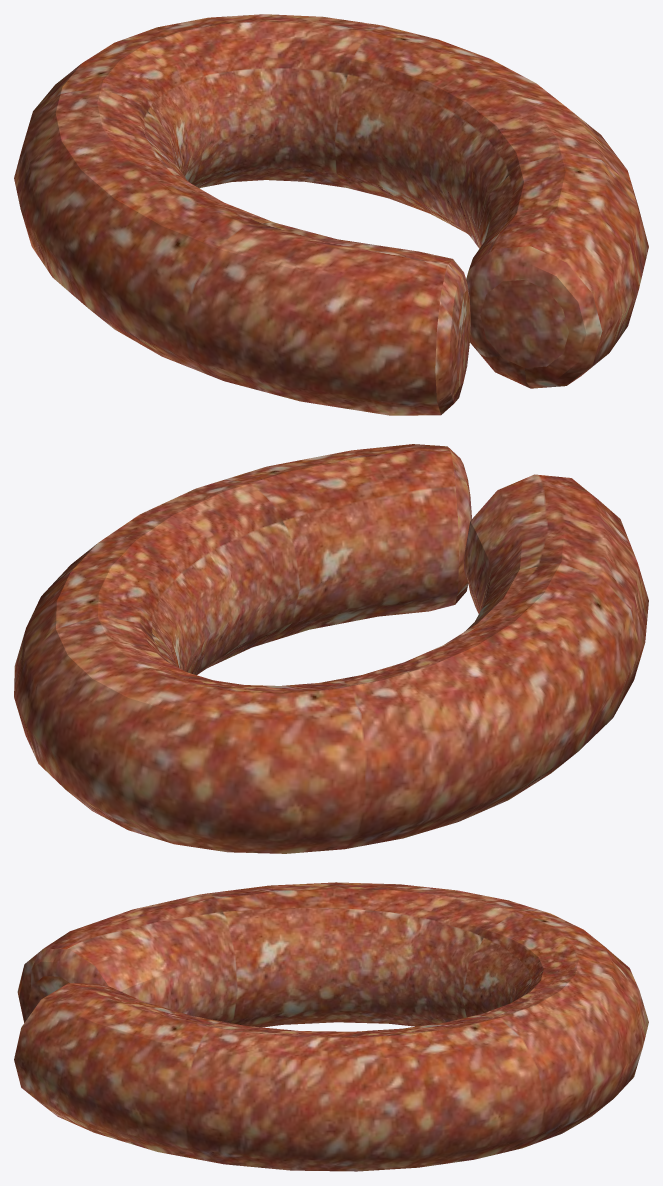
Rendered from sucuk.fbx.
3 renders of one model, top to bottom at view 1: azimuth 30°, elevation 25°; view 2: azimuth 150°, elevation 25°; view 3: azimuth 270°, elevation 25°, orthographic. The views are drawn at different scales.
Visible parts, largest first — view 1: NurbsPath.001; view 2: NurbsPath.001; view 3: NurbsPath.001.
Boxes of the visible parts, left/top/right/bottom form: NurbsPath.001: left=14, top=14, right=648, bottom=415; NurbsPath.001: left=14, top=444, right=648, bottom=853; NurbsPath.001: left=14, top=882, right=648, bottom=1171.
Size of the model in its own units: 74 by 21.06 by 95.23.
1 material, 1 textured.
